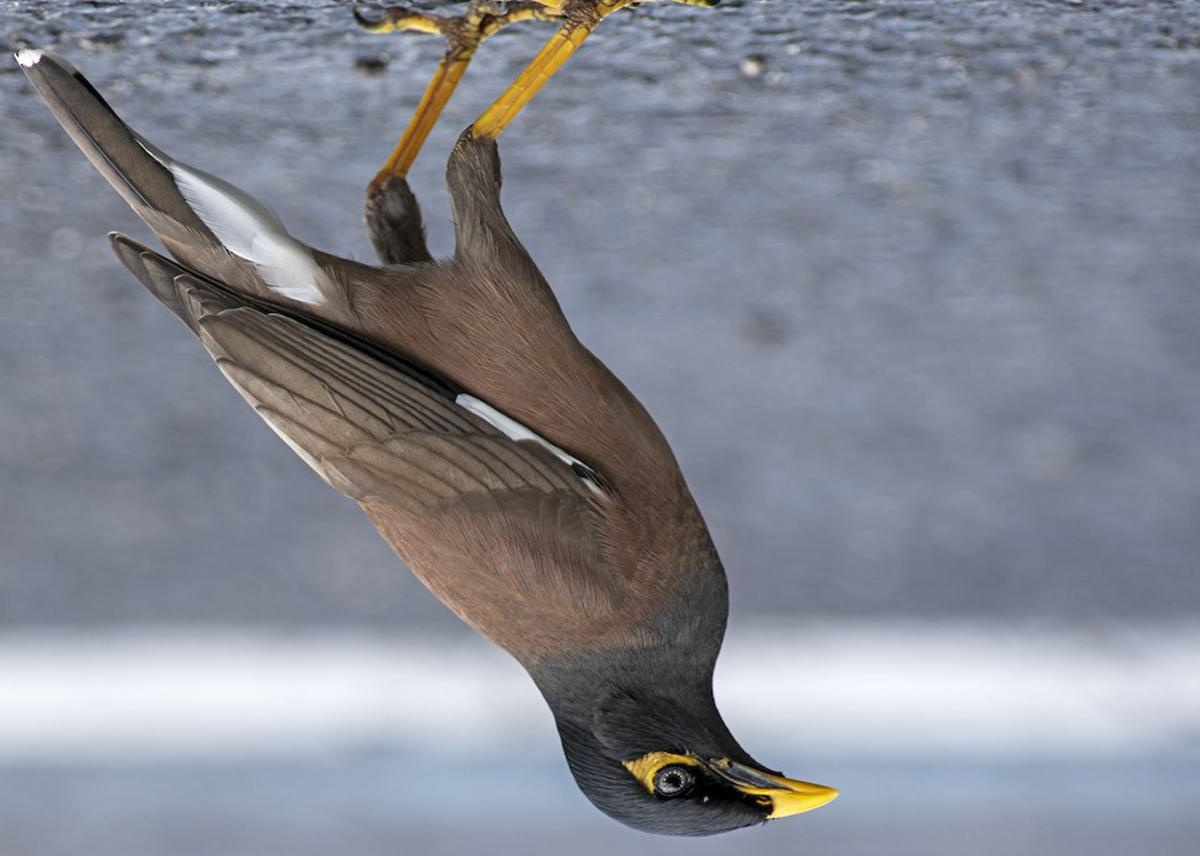myna: (121, 82, 855, 842)
